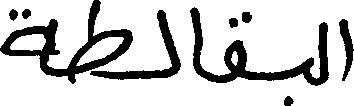ا: (335, 16, 352, 81), (188, 4, 203, 77)
ب: (282, 54, 314, 105)
ة: (0, 6, 57, 76)
ط: (65, 0, 131, 85)
ق: (222, 7, 254, 83)
ل: (156, 7, 181, 77), (317, 20, 329, 86)
